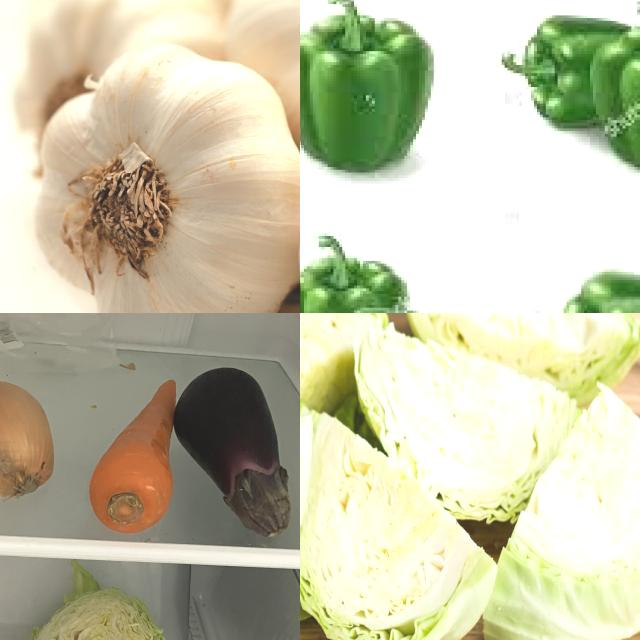bell_pepper: (301, 1, 441, 176)
cabbage: (351, 319, 593, 529), (301, 402, 501, 640), (482, 381, 640, 640), (400, 314, 640, 407), (301, 314, 394, 498), (10, 574, 235, 640)
carrot: (87, 377, 183, 538)
eggplant: (170, 365, 296, 541)
garlic: (38, 43, 301, 314)
onion: (1, 379, 60, 504)
